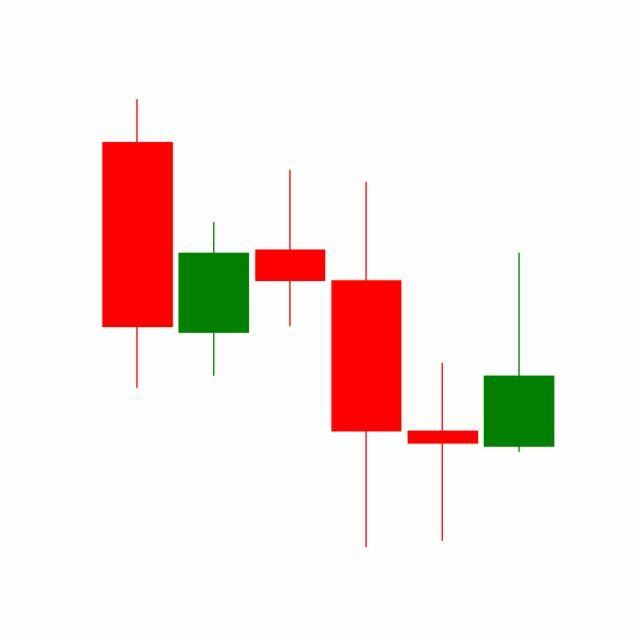Hikkake Pattern: (175, 166, 555, 549)
